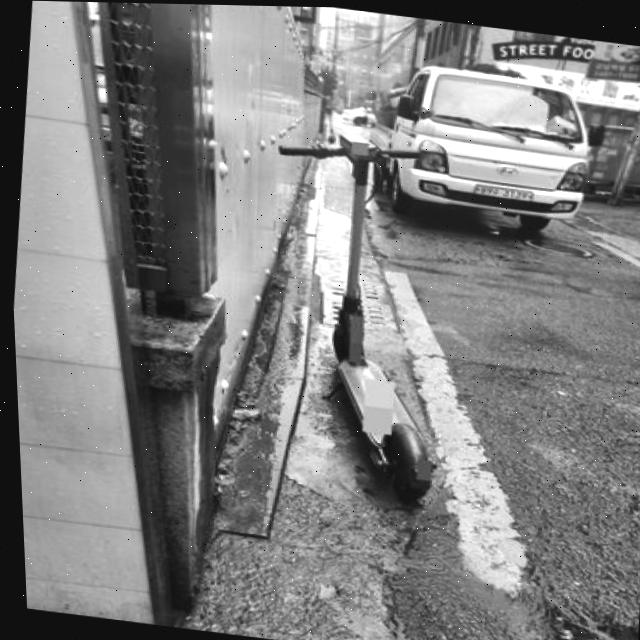kickboard_no: (306, 134, 467, 508)
